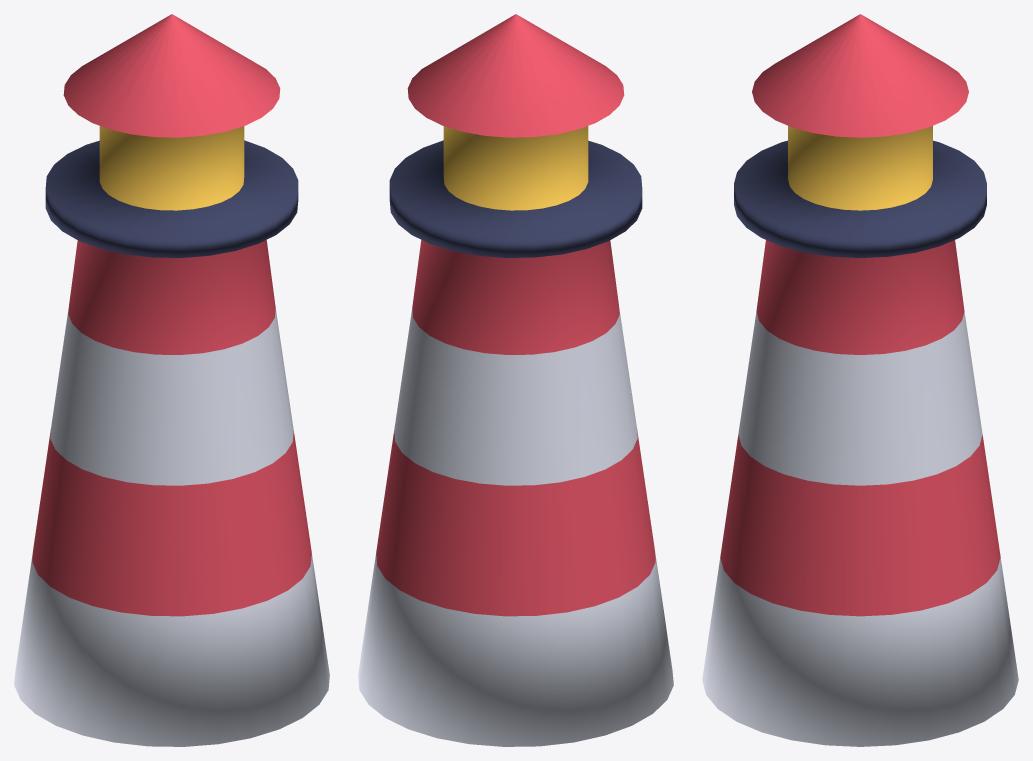
File: lighthouse.obj
3 views of the same model, side by side, from view 1: azimuth 30°, elevation 25°; view 2: azimuth 150°, elevation 25°; view 3: azimuth 270°, elevation 25° (orthographic).
Size of the model in its own units: 1.4 by 3.25 by 1.4.
